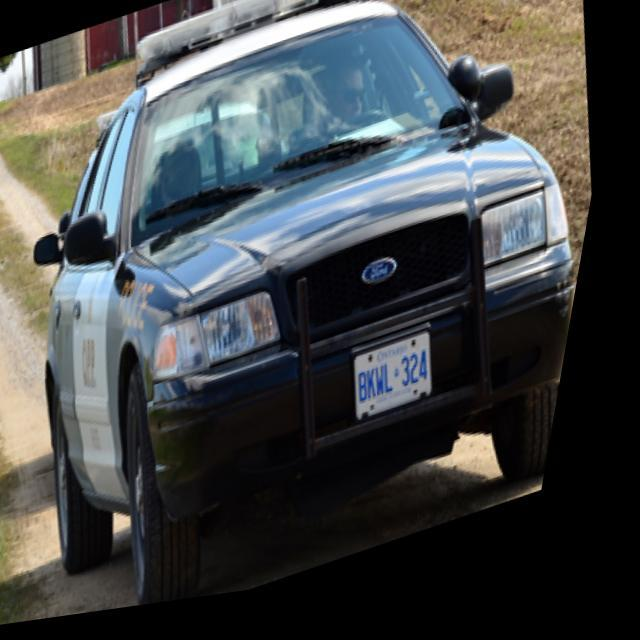license_plate: (356, 338, 454, 432)
